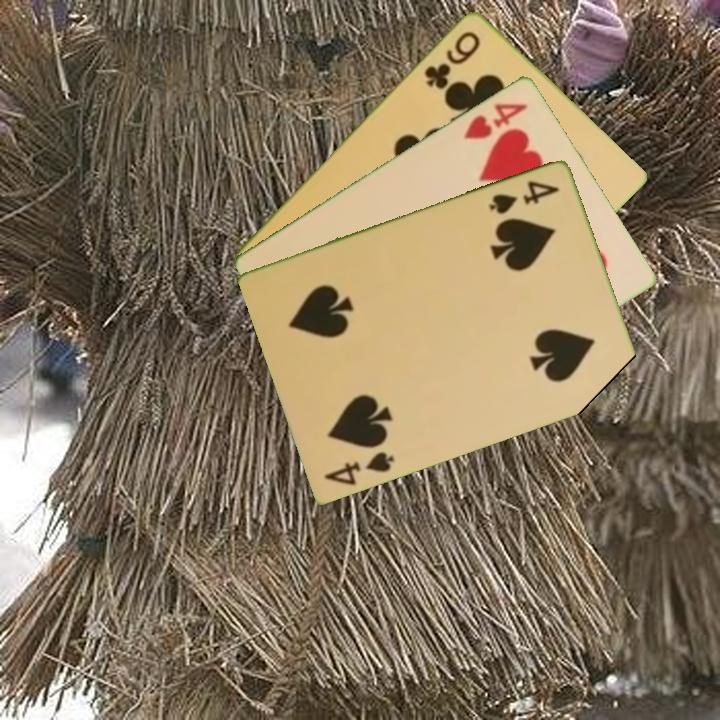4h: (461, 99, 531, 143)
4s: (485, 176, 563, 217), (320, 447, 398, 488)
9c: (420, 27, 483, 92)
